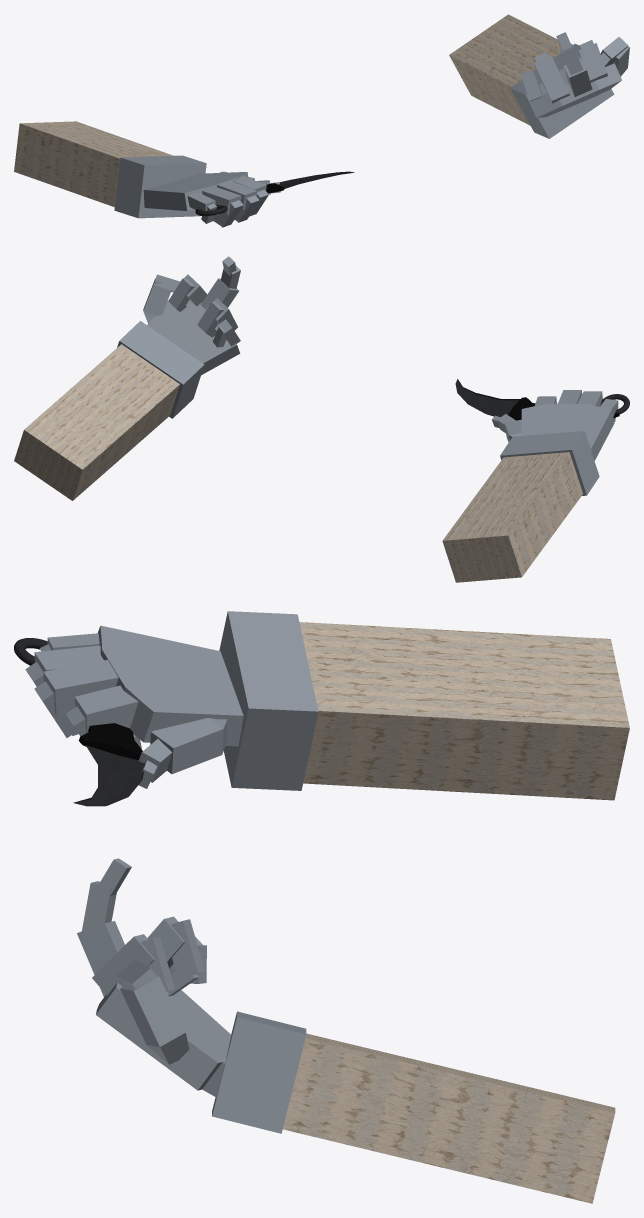
File: karambit.glb
3 views of the same model, one above another, from view 1: azimuth 30°, elevation 25°; view 2: azimuth 150°, elevation 25°; view 3: azimuth 270°, elevation 25° (orthographic). The views are drawn at different scales.
Parts seen in each view (by area): view 1: Cube.212, Cube.213, Cube.283, Cube.279, Cube.211, Cube.214, Cube.266; view 2: Cube.213, Cube.212, Cube.283, Cube.279, Cube.214, Cube.211, Cube.266; view 3: Cube.212, Cube.213, Cube.279, Cube.283, Cube.211, Cube.214, Cube.266, Cube.265.
Boxes of the visible parts, box(x1,y1,x2,y2) form: Cube.212: box(14, 121, 172, 206); Cube.213: box(449, 14, 561, 125); Cube.283: box(520, 32, 629, 117); Cube.279: box(143, 171, 280, 227); Cube.211: box(114, 155, 206, 218); Cube.214: box(510, 43, 614, 138); Cube.266: box(197, 171, 354, 215); Cube.213: box(14, 344, 179, 500); Cube.212: box(442, 452, 582, 582); Cube.283: box(143, 256, 240, 374); Cube.279: box(491, 390, 618, 460); Cube.214: box(117, 321, 204, 418); Cube.211: box(500, 431, 599, 495); Cube.266: box(455, 379, 629, 416); Cube.212: box(299, 622, 629, 800); Cube.213: box(283, 1033, 615, 1203); Cube.279: box(25, 625, 243, 788); Cube.283: box(77, 858, 231, 1097); Cube.211: box(219, 611, 318, 790); Cube.214: box(212, 1011, 306, 1133); Cube.266: box(14, 638, 145, 806); Cube.265: box(79, 723, 142, 760).
Size of the model in its own units: 1.66 by 0.5045 by 0.9099.
7 materials, 3 textured.
